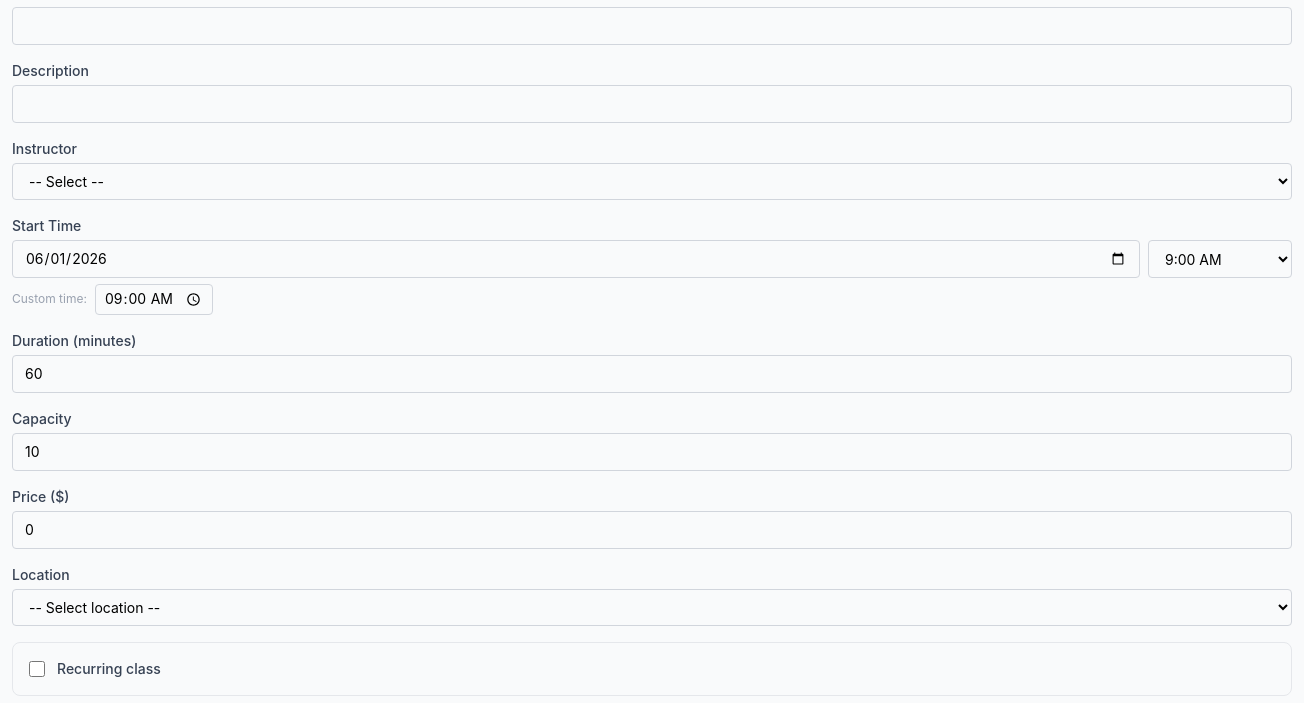
Test case: AdminClassForm › auto-fills recurrenceEndDate to 3 months from start when recurring toggled on
Click the checkbox. click: (37, 669)
box: [29, 661, 45, 677]
(page scrolled)
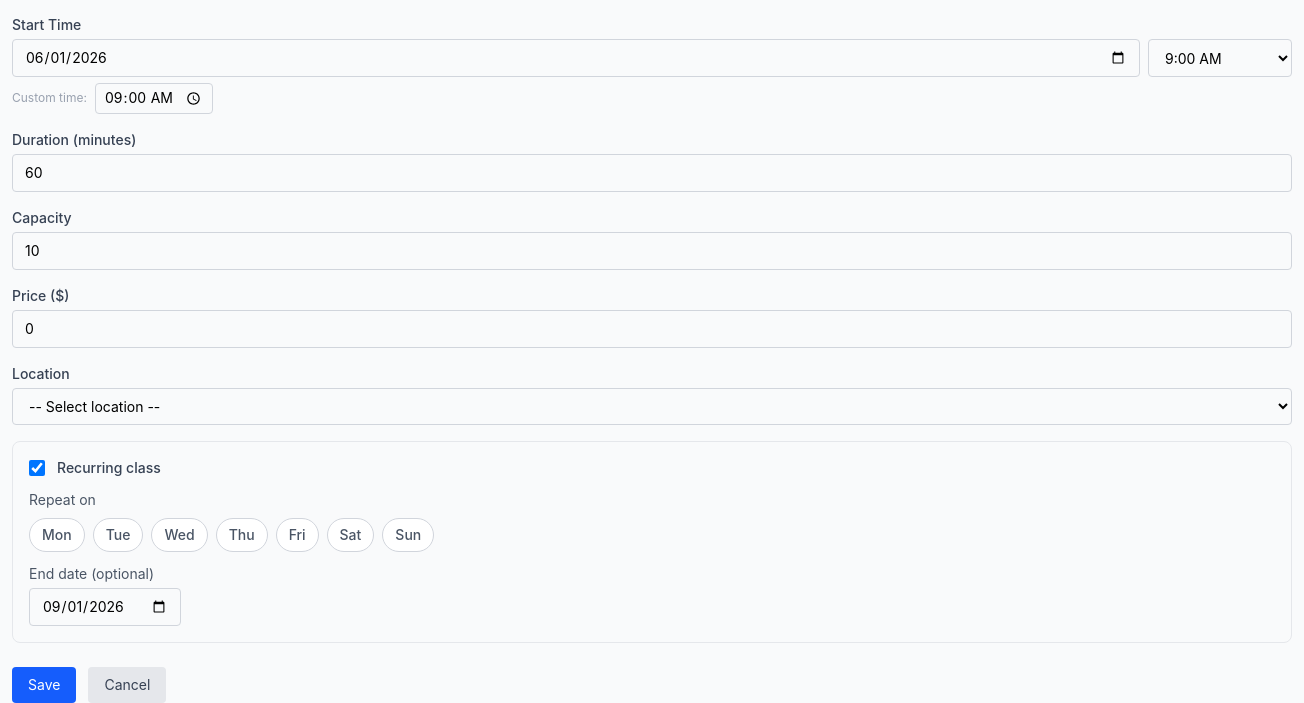
Now the date field below "End date (optional)" holds "2026-09-01", box [29, 588, 181, 626]
